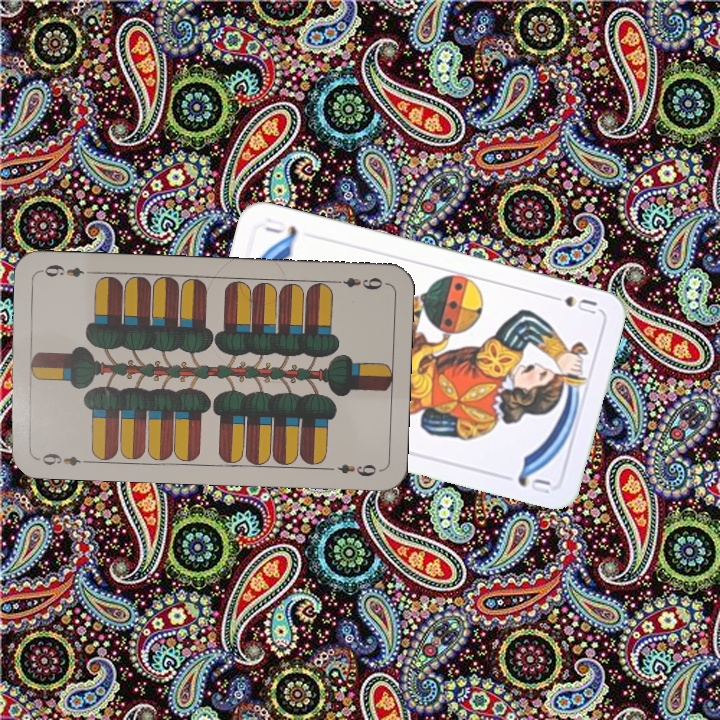E9: (32, 449, 91, 468), (329, 273, 385, 293)
SU: (543, 290, 600, 317)
